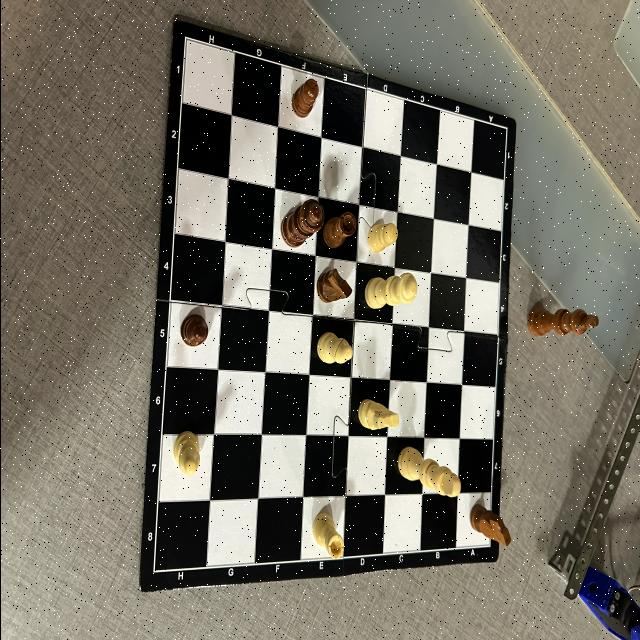Black-King: (526, 306, 598, 338)
Black-Knight: (468, 504, 511, 546), (316, 268, 352, 304)
Black-Pawn: (290, 78, 318, 118), (180, 313, 208, 347)
Black-Queen: (280, 198, 324, 248)
Black-Rook: (322, 212, 356, 250)
White-Bishop: (172, 431, 199, 475), (316, 332, 352, 364)
White-King: (397, 446, 460, 498)
White-Knight: (356, 398, 398, 431)
White-Pawn: (367, 223, 398, 253)
White-Queen: (363, 273, 417, 309)
White-Rook: (311, 513, 343, 559)
